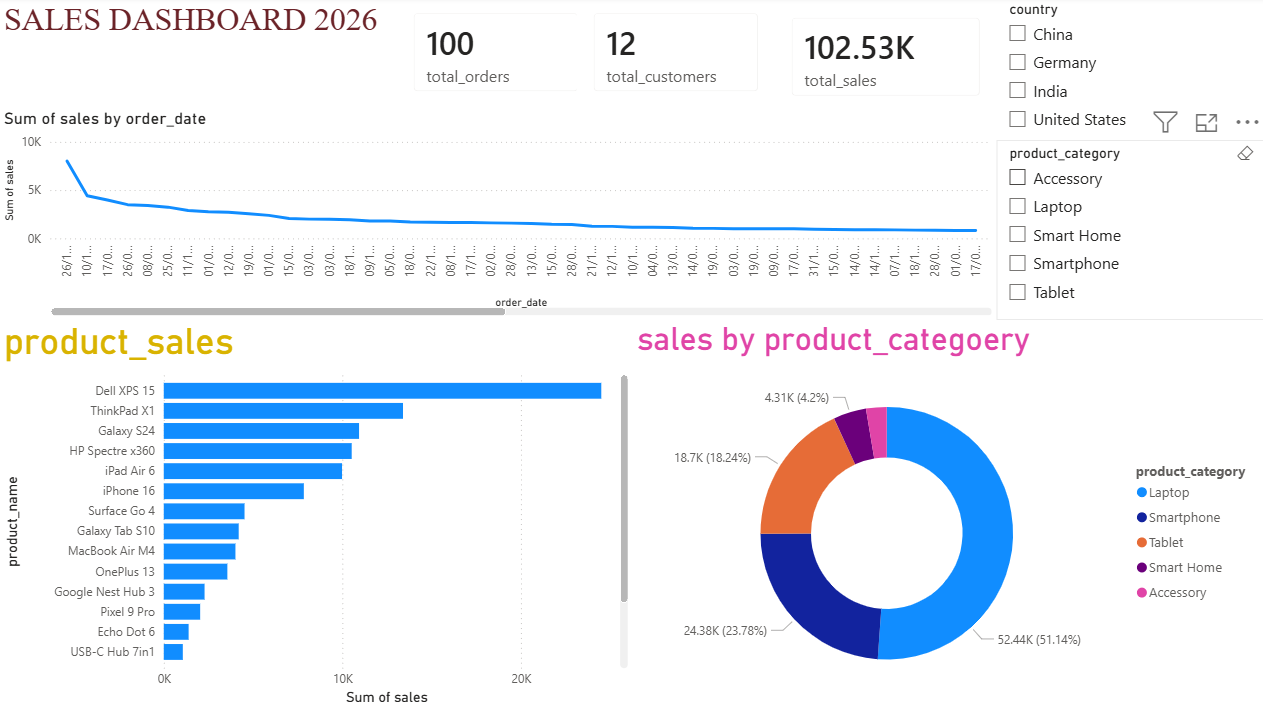

Layout of this report page (visuals, bound fields, positions):
{"tool":"powerbi","page":{"name":"Page 1","canvas":[1280,720],"ordinal":0},"visuals":[{"type":"barChart","title":"product_sales","fields":{"Category":["orders.product_name"],"Y":["Sum(orders.sales)"]},"box":[0,327.6,639.7,393.1],"z":0},{"type":"donutChart","title":"sales  by product_categoery","fields":{"Category":["orders.product_category"],"Y":["Sum(orders.sales)"]},"box":[639.7,327.6,639.7,393.1],"z":1},{"type":"cardVisual","fields":{"Data":["CountNonNull(orders.order_id)"]},"box":[401.7,0,200,113.8],"z":2},{"type":"cardVisual","fields":{"Data":["Count(customers.customer_id)"]},"box":[582.8,0,200,113.8],"z":3},{"type":"textbox","box":[0,0,401.7,113.8],"z":4},{"type":"cardVisual","fields":{"Data":["Sum(orders.sales)"]},"box":[782.8,5.2,224.1,113.8],"z":5},{"type":"lineChart","fields":{"Category":["orders.order_date"],"Y":["Sum(orders.sales)"]},"box":[0,113.8,1006.9,213.8],"z":6},{"type":"slicer","fields":{"Values":["customers.country"]},"box":[1006.9,0,272.4,144.8],"z":7},{"type":"slicer","fields":{"Values":["orders.product_category"]},"box":[1006.9,144.8,272.4,182.8],"z":8}]}

Visuals, with their boxes in screenshot pixels (x1, y1, x2, y2), scaled from the page's 1280x720 canvas onto the 1263x705 screenshot:
"product_sales" barChart: x1=0 y1=321 x2=631 y2=704
"sales  by product_categoery" donutChart: x1=631 y1=321 x2=1262 y2=704
cardVisual - CountNonNull(orders.order_id): x1=396 y1=0 x2=594 y2=111
cardVisual - Count(customers.customer_id): x1=575 y1=0 x2=772 y2=111
textbox: x1=0 y1=0 x2=396 y2=111
cardVisual - Sum(orders.sales): x1=772 y1=5 x2=994 y2=117
lineChart - orders.order_date x Sum(orders.sales): x1=0 y1=111 x2=994 y2=321
slicer - customers.country: x1=994 y1=0 x2=1262 y2=142
slicer - orders.product_category: x1=994 y1=142 x2=1262 y2=321
